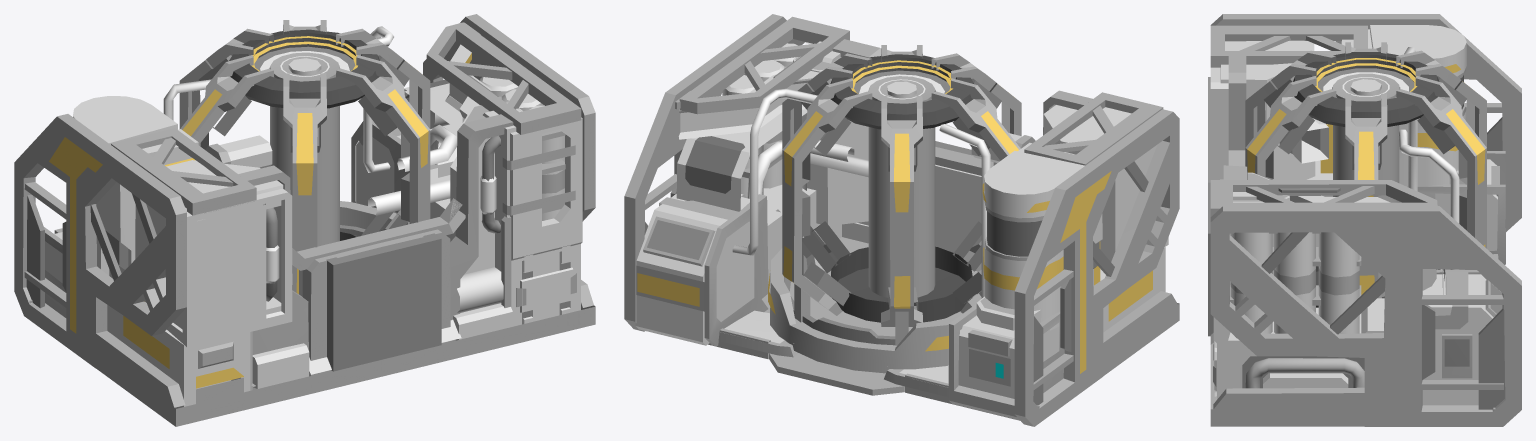
File: Prototech_Reactor_LOD4.fbx
3 views of the same model, side by side, from view 1: azimuth 30°, elevation 25°; view 2: azimuth 150°, elevation 25°; view 3: azimuth 270°, elevation 25° (orthographic). The views are drawn at different scales.
Visible parts, largest first — view 1: Cube.327, Prot_Assembler_PaintedVeryDark_04.018, Plane.058, Cube.359, Cylinder.202, Prot_Assembler_PaintedDarker_06.037, Prot_Assembler_PaintedColorable_02.029, Cube.375, 2_ReactorPole01.027, Cylinder.217, 2_ReactorPole01.028, Cylinder.192 (+31 smaller); view 2: Cube.327, Cube.369, Plane.058, Cube.362, Cylinder.217, 2_ReactorPole01.025, EMC Cylinder.022, 2_ReactorPole01.024, Cylinder.182, Cube.377, Cylinder.188, Cylinder.192 (+29 smaller); view 3: Cube.327, Plane.058, Cylinder.200, Cube.386, 2_ReactorPole01.025, Cylinder.192, Cylinder.182, Cube.362, Cylinder.202, 2_ReactorPole01.027, Cube.371, Cylinder.217 (+25 smaller).
Boxes of the visible parts, box(x1,y1,x2,y2) form: Cube.327: box(14, 14, 595, 368); Prot_Assembler_PaintedVeryDark_04.018: box(326, 233, 441, 371); Plane.058: box(111, 22, 581, 215); Cube.359: box(96, 129, 292, 408); Cylinder.202: box(430, 117, 582, 326); Prot_Assembler_PaintedDarker_06.037: box(28, 300, 595, 426); Prot_Assembler_PaintedColorable_02.029: box(197, 203, 266, 337); Cube.375: box(252, 114, 513, 389); 2_ReactorPole01.027: box(336, 55, 430, 223); Cylinder.217: box(270, 52, 339, 273); 2_ReactorPole01.028: box(283, 73, 326, 293); Cylinder.192: box(229, 29, 379, 108); Cube.327: box(624, 14, 1179, 426); Cube.369: box(659, 194, 1064, 420); Plane.058: box(679, 16, 1163, 165); Cube.362: box(635, 109, 807, 345); Cylinder.217: box(868, 76, 935, 297); 2_ReactorPole01.025: box(782, 78, 872, 322); EMC Cylinder.022: box(770, 248, 959, 373); 2_ReactorPole01.024: box(881, 95, 922, 345); Cylinder.182: box(984, 150, 1084, 330); Cube.377: box(637, 171, 1152, 373); Cylinder.188: box(831, 246, 972, 322); Cylinder.192: box(830, 54, 973, 129); Cube.327: box(1210, 14, 1521, 426); Plane.058: box(1210, 25, 1437, 216); Cylinder.200: box(1230, 232, 1359, 337); Cube.386: box(1261, 117, 1504, 409); 2_ReactorPole01.025: box(1396, 76, 1486, 269); Cylinder.192: box(1293, 52, 1439, 126); Cylinder.182: box(1370, 25, 1466, 186); Cube.362: box(1361, 269, 1493, 405); Cylinder.202: box(1213, 307, 1364, 399); 2_ReactorPole01.027: box(1245, 76, 1336, 177); Cube.371: box(1213, 387, 1364, 409); Cylinder.217: box(1333, 73, 1399, 296).
Size of what is drawn, in the model's own units: 752 by 452 by 504.
